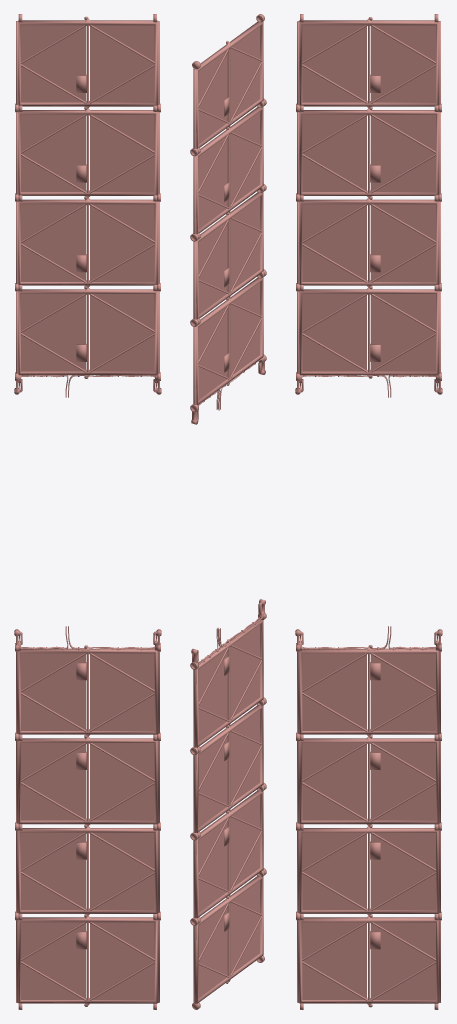
The model's file is Solar Panels.fbx.
3 renders of one model, left to right at view 1: azimuth 90°, elevation 25°; view 2: azimuth 150°, elevation 25°; view 3: azimuth 270°, elevation 25°, orthographic. The views are drawn at different scales.
Parts seen in each view (by area): view 1: Solar Panels; view 2: Solar Panels; view 3: Solar Panels.
Boxes of the visible parts, left/top/right/bottom form: Solar Panels: left=14, top=14, right=161, bottom=1009; Solar Panels: left=190, top=14, right=266, bottom=1009; Solar Panels: left=295, top=14, right=442, bottom=1009.
Bounding box in the file's own units: 8.1 × 1045 × 141.
